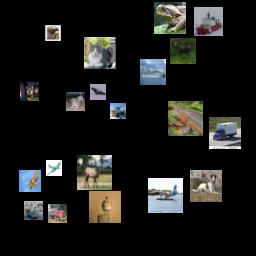airplane: (148, 178, 183, 213), (19, 170, 41, 192), (46, 160, 62, 176), (90, 84, 106, 100)
automobile: (24, 201, 43, 220)
bird: (89, 191, 121, 223)
cat: (84, 37, 116, 69), (20, 82, 39, 101)
deer: (77, 155, 112, 190), (170, 38, 196, 64), (45, 25, 61, 41)
dog: (190, 170, 222, 202), (66, 92, 85, 111)
frog: (168, 101, 203, 136), (154, 2, 186, 34)
ship: (194, 7, 223, 36), (140, 59, 166, 85)
truck: (209, 117, 241, 149), (48, 204, 67, 223), (110, 103, 126, 119)
